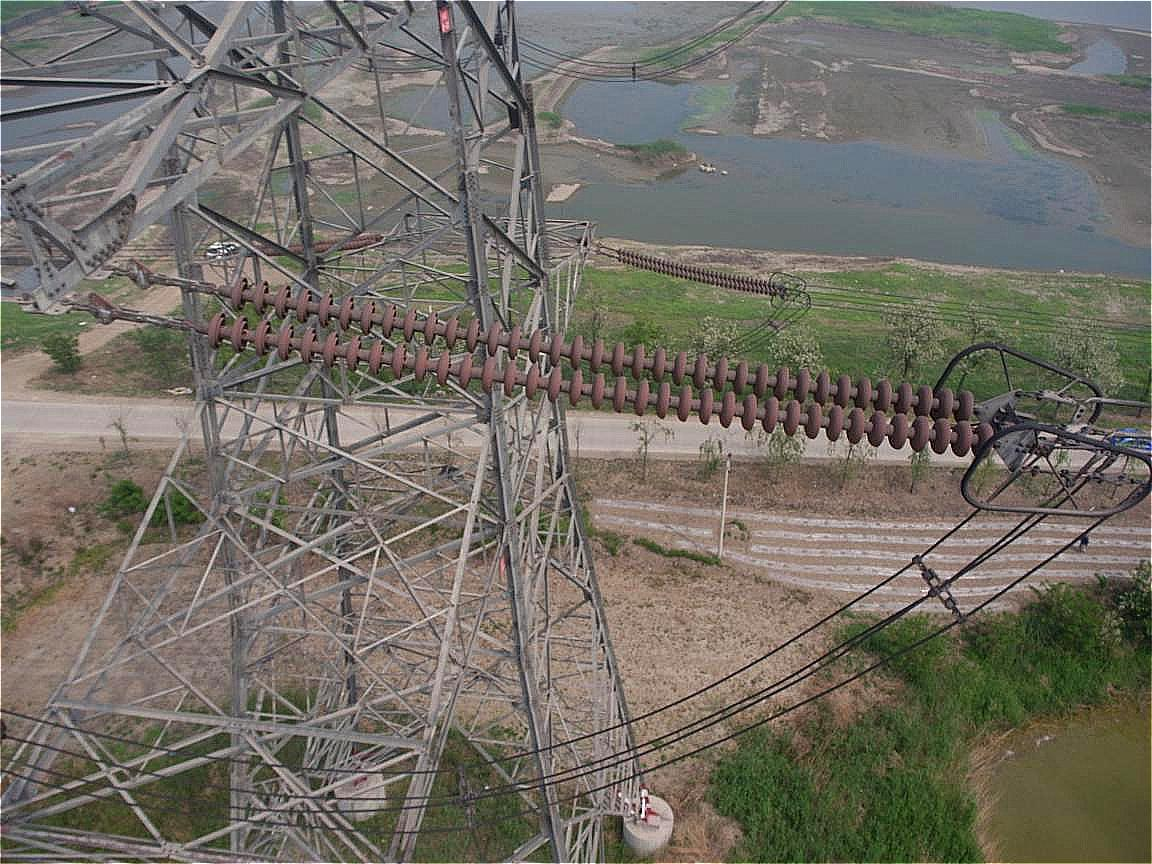insultor1: (175, 262, 1006, 472), (609, 244, 784, 298)
